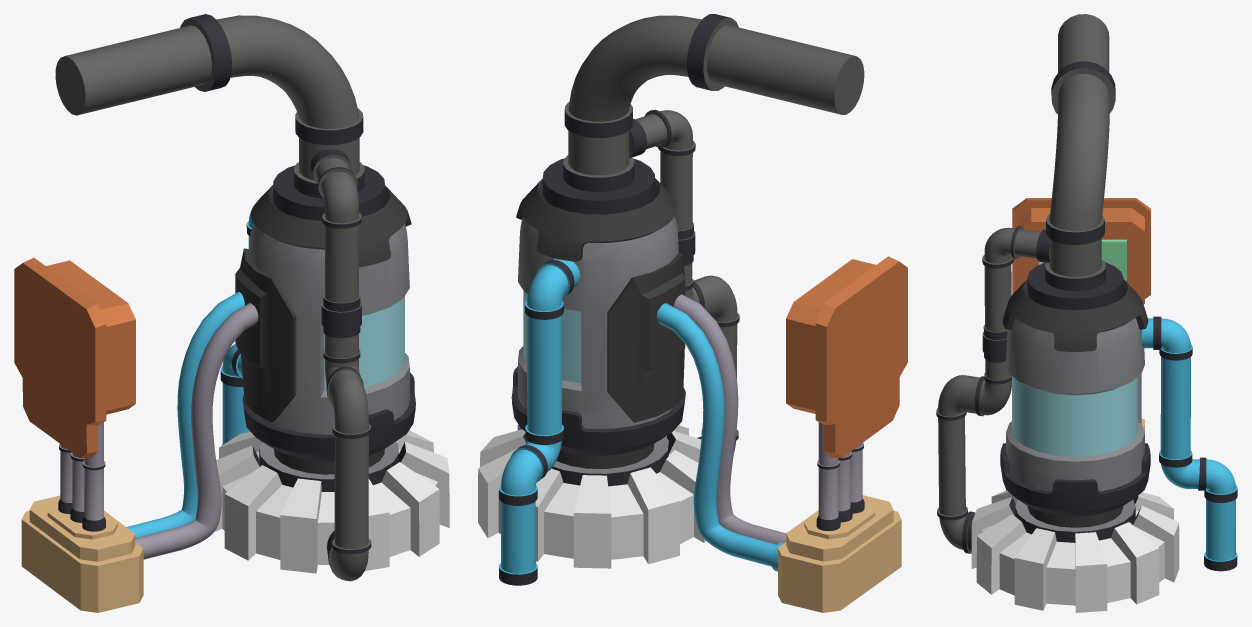
File: contener.fbx
3 views of the same model, side by side, from view 1: azimuth 30°, elevation 25°; view 2: azimuth 150°, elevation 25°; view 3: azimuth 270°, elevation 25° (orthographic). The views are drawn at different scales.
Parts seen in each view (by area): view 1: Cylinder.001; view 2: Cylinder.001; view 3: Cylinder.001.
Boxes of the visible parts, bbox=[...] form: Cylinder.001: bbox=[14, 14, 449, 612]; Cylinder.001: bbox=[478, 14, 907, 612]; Cylinder.001: bbox=[936, 14, 1237, 612].
Bounding box in the file's own units: 594 × 793 × 475.
